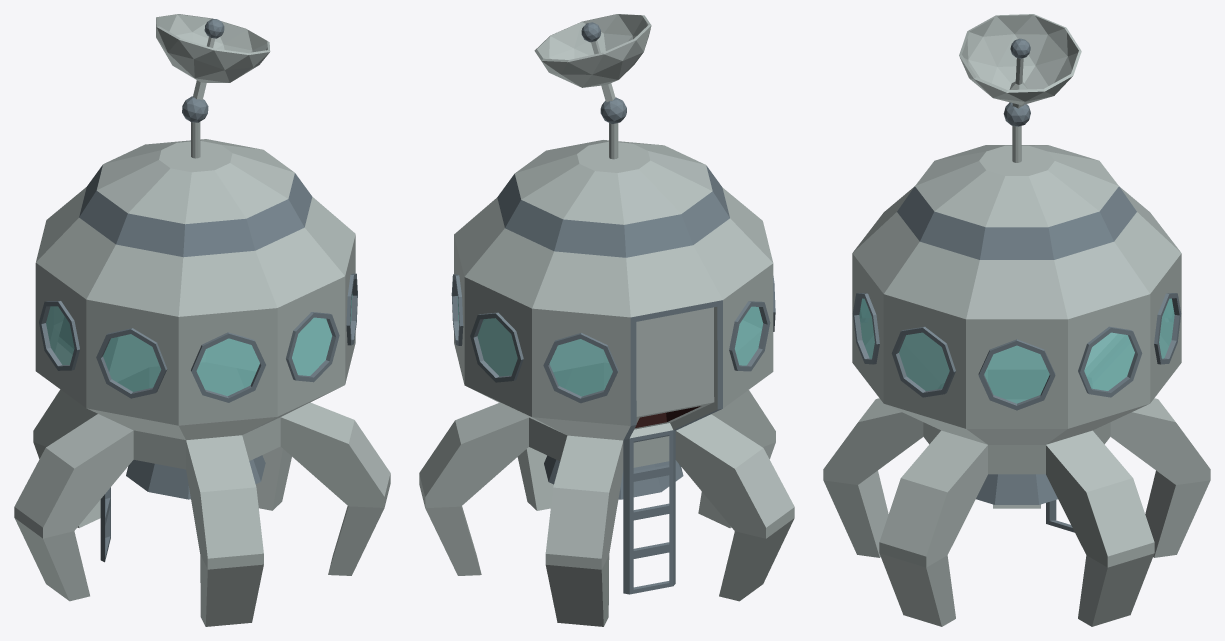
The model's file is Shuttle_Landed 2.fbx.
3 views of the same model, side by side, from view 1: azimuth 30°, elevation 25°; view 2: azimuth 150°, elevation 25°; view 3: azimuth 270°, elevation 25° (orthographic).
Visible parts, largest first — view 1: Sattlelight dish.001; view 2: Sattlelight dish.001; view 3: Sattlelight dish.001.
Boxes of the visible parts, x1=… form: Sattlelight dish.001: x1=14, y1=14, x2=390, y2=626; Sattlelight dish.001: x1=419, y1=14, x2=794, y2=626; Sattlelight dish.001: x1=823, y1=14, x2=1210, y2=626.
Size of the model in its own units: 404 by 651 by 425.
